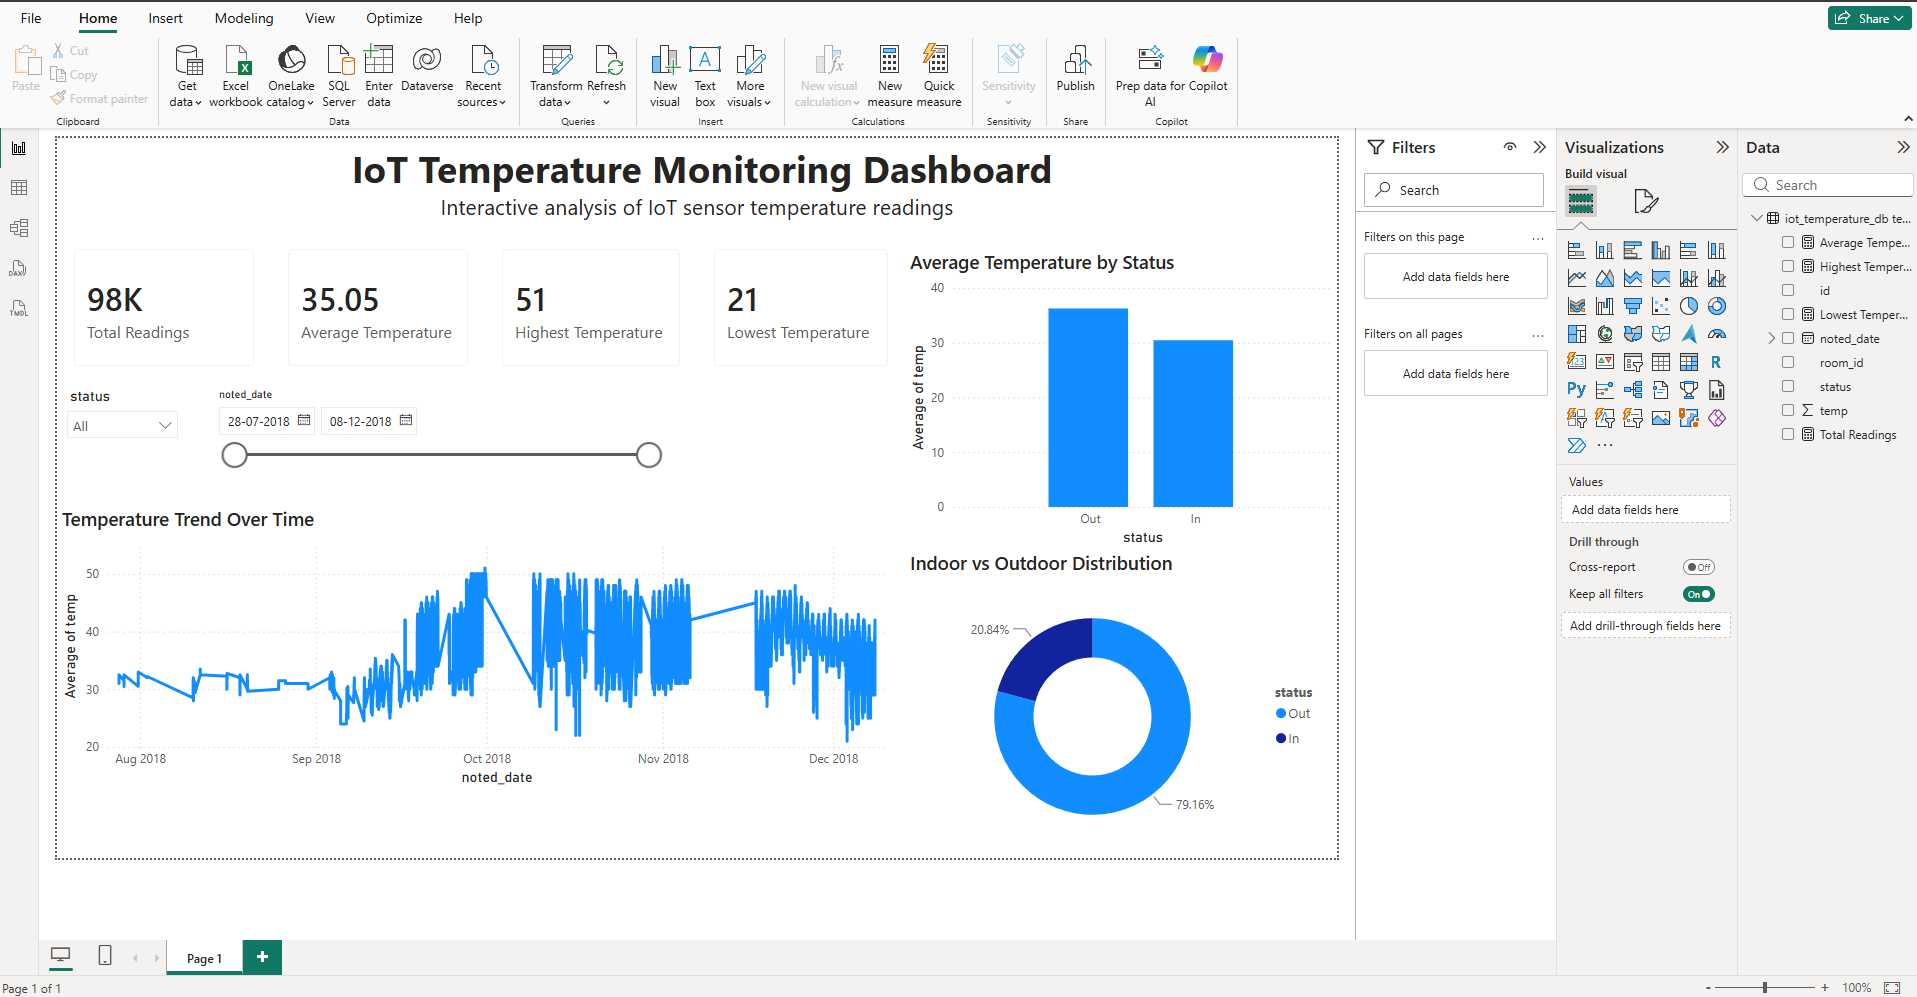

The page's visual inventory and layout, read from the dashboard file:
{"tool":"powerbi","page":{"name":"Page 1","canvas":[1280,720],"ordinal":0},"visuals":[{"type":"cardVisual","fields":{"Data":["iot_temperature_db temperature_logs.Total Readings"]},"box":[0,94.3,214,150.8],"z":0},{"type":"cardVisual","fields":{"Data":["iot_temperature_db temperature_logs.Average Temperature"]},"box":[214,94.3,214,150.8],"z":1000},{"type":"cardVisual","fields":{"Data":["iot_temperature_db temperature_logs.Highest Temperature"]},"box":[428,94.3,212,150.8],"z":2000},{"type":"cardVisual","fields":{"Data":["iot_temperature_db temperature_logs.Lowest Temperature"]},"box":[640,94.3,208.1,150.8],"z":3000},{"type":"lineChart","title":"Temperature Trend Over Time","fields":{"Y":["Avg(iot_temperature_db temperature_logs.temp)"],"Category":["iot_temperature_db temperature_logs.noted_date"]},"box":[0,367.7,848.1,284],"z":4000},{"type":"donutChart","title":"Indoor vs Outdoor Distribution","fields":{"Category":["iot_temperature_db temperature_logs.status"],"Y":["CountNonNull(iot_temperature_db temperature_logs.id)"]},"box":[848.1,412.4,431.9,307.4],"z":5000},{"type":"clusteredColumnChart","title":"Average Temperature by Status","fields":{"Category":["iot_temperature_db temperature_logs.status"],"Y":["Avg(iot_temperature_db temperature_logs.temp)"]},"box":[848.1,110.9,431.9,301.5],"z":6000},{"type":"slicer","fields":{"Values":["iot_temperature_db temperature_logs.status"]},"box":[0,245.1,131.3,122.6],"z":7000},{"type":"slicer","fields":{"Values":["iot_temperature_db temperature_logs.noted_date"]},"box":[148.8,245.1,464,122.6],"z":8000},{"type":"textbox","box":[0,0,1280,94.3],"z":10000}]}

Visuals, with their boxes on the page's 1280x720 design canvas (x1, y1, x2, y2). These are canvas units, not pixel positions in the 1917x997 screenshot, which may show the page scaled, cropped or inside an application window:
cardVisual - iot_temperature_db temperature_logs.Total Readings: 0 94 214 245
cardVisual - iot_temperature_db temperature_logs.Average Temperature: 214 94 428 245
cardVisual - iot_temperature_db temperature_logs.Highest Temperature: 428 94 640 245
cardVisual - iot_temperature_db temperature_logs.Lowest Temperature: 640 94 848 245
"Temperature Trend Over Time" lineChart: 0 368 848 652
"Indoor vs Outdoor Distribution" donutChart: 848 412 1280 720
"Average Temperature by Status" clusteredColumnChart: 848 111 1280 412
slicer - iot_temperature_db temperature_logs.status: 0 245 131 368
slicer - iot_temperature_db temperature_logs.noted_date: 149 245 613 368
textbox: 0 0 1280 94
